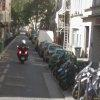Motorcycle: (11, 34, 31, 65)
